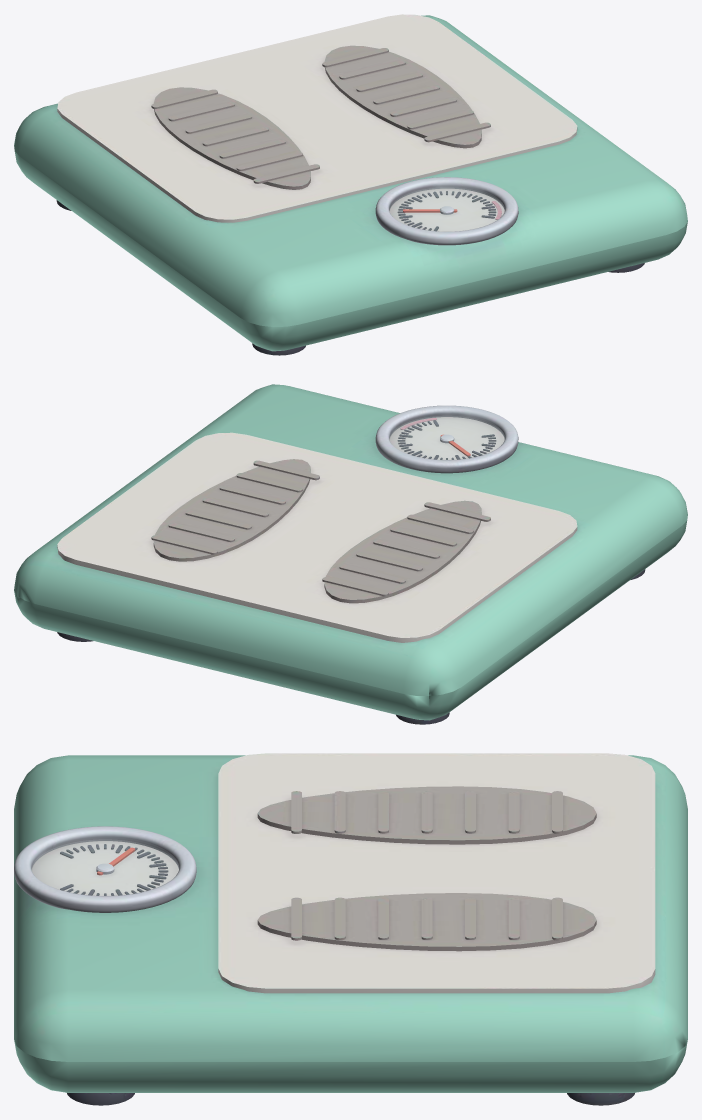
Rendered from bascula.glb.
The picture shows the model from 3 angles, top to bottom: view 1: azimuth 30°, elevation 25°; view 2: azimuth 150°, elevation 25°; view 3: azimuth 270°, elevation 25°; orthographic projection. The views are drawn at different scales.
Parts seen in each view (by area): view 1: bathroom-scale_body; view 2: bathroom-scale_body; view 3: bathroom-scale_body.
Boxes of the visible parts, x1,y1,x2,y2 form: bathroom-scale_body: (14, 14, 687, 355); bathroom-scale_body: (14, 384, 687, 724); bathroom-scale_body: (14, 753, 687, 1105).
Bounding box in the file's own units: 0.3 × 0.062 × 0.31.
2 materials, 1 textured.
